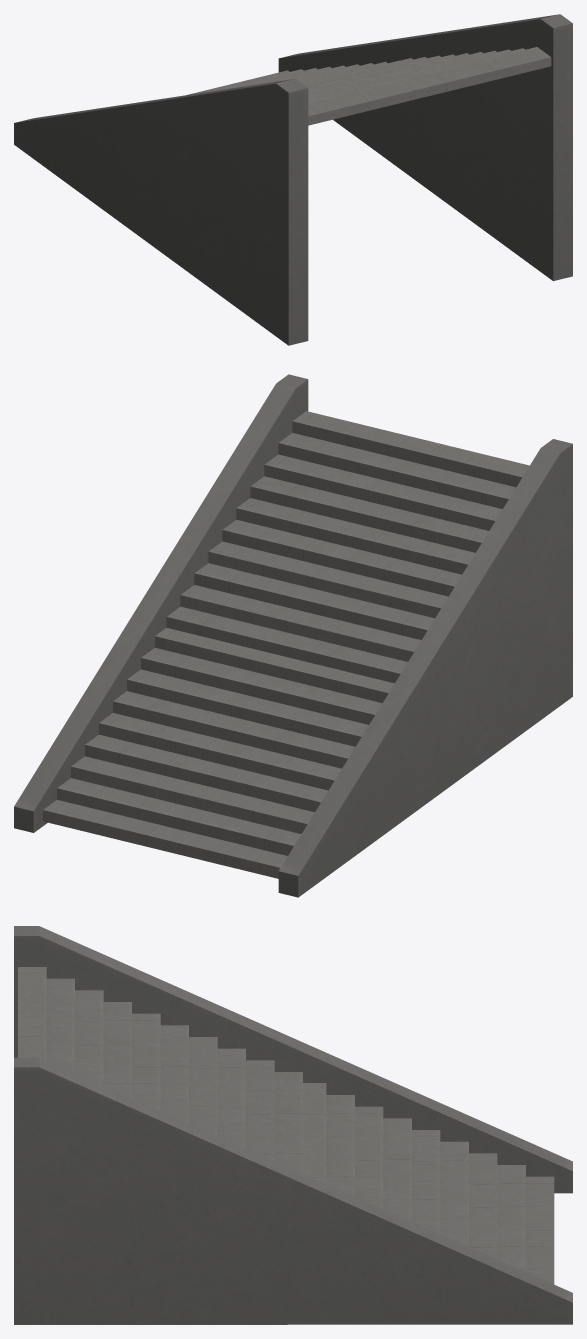
File: BilldingStair_G.fbx
The picture shows the model from 3 angles, top to bottom: view 1: azimuth 30°, elevation 25°; view 2: azimuth 150°, elevation 25°; view 3: azimuth 270°, elevation 25°; orthographic projection.
Visible parts, largest first — view 1: BilldingStair_G; view 2: BilldingStair_G; view 3: BilldingStair_G.
Part boxes in pixels (left/top/right/bottom): BilldingStair_G: left=14, top=14, right=572, bottom=345; BilldingStair_G: left=14, top=374, right=572, bottom=897; BilldingStair_G: left=14, top=926, right=572, bottom=1324.
Size of the model in its own units: 674 by 573 by 1127.
Materials: 2 (2 with a texture image).
